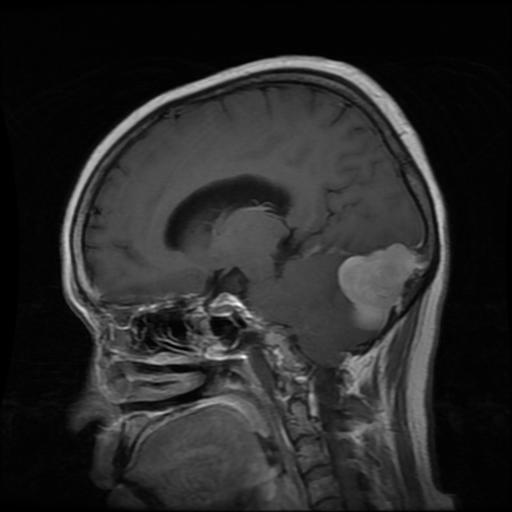Menigiomia_tumour: (337, 240, 425, 330)
